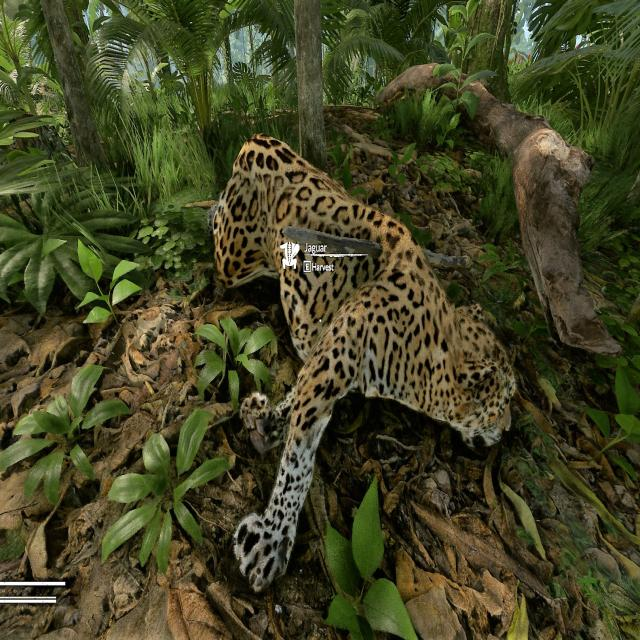Jaguar: (260, 269, 519, 619)
